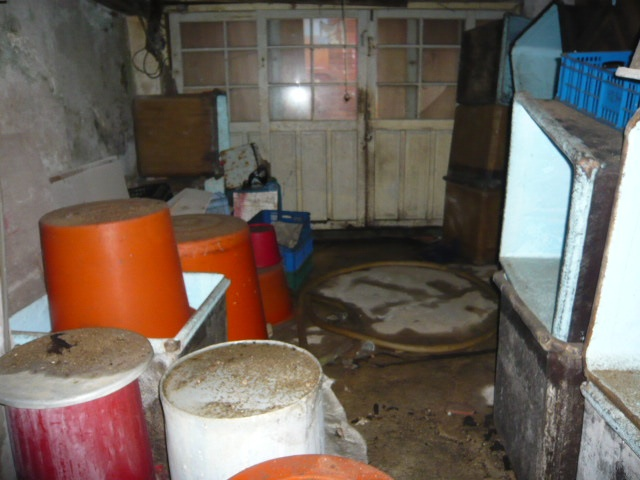box: (130, 90, 230, 179)
bucket: (37, 197, 199, 340), (156, 338, 327, 469)
